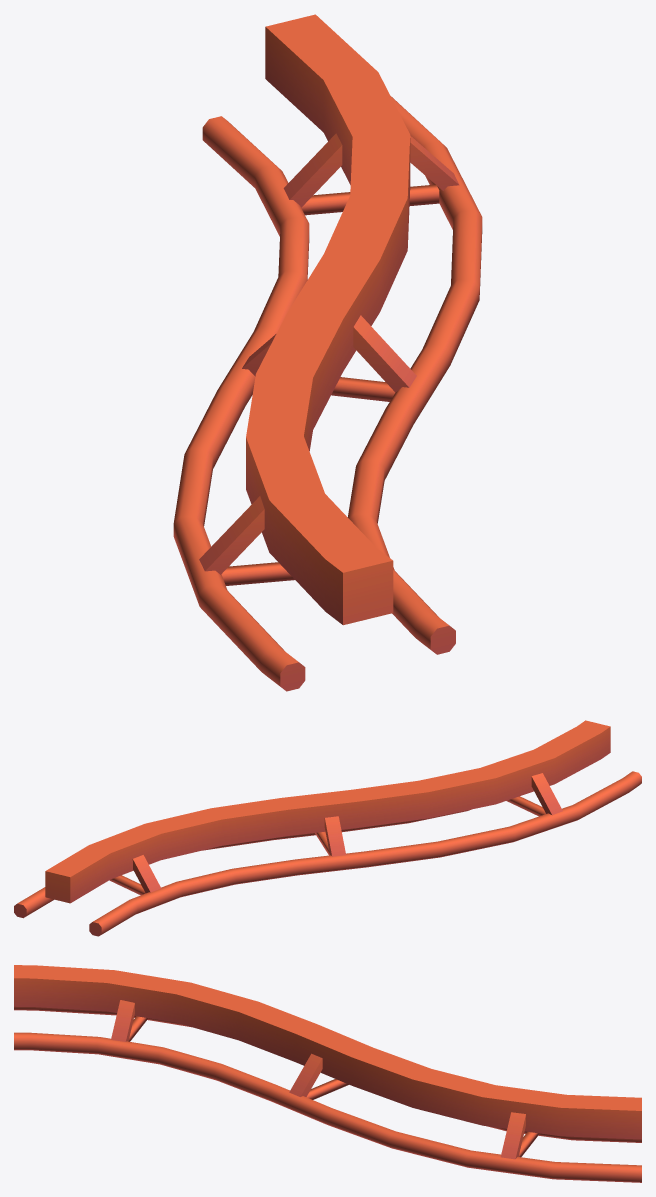
Rendered from coaster-hanging-curve.glb.
3 views of the same model, one above another, from view 1: azimuth 30°, elevation 25°; view 2: azimuth 150°, elevation 25°; view 3: azimuth 270°, elevation 25° (orthographic). The views are drawn at different scales.
Parts seen in each view (by area): view 1: coaster-hanging-curve; view 2: coaster-hanging-curve; view 3: coaster-hanging-curve.
Boxes of the visible parts, x1,y1,x2,y2 form: coaster-hanging-curve: (173,14,482,691); coaster-hanging-curve: (14,720,641,936); coaster-hanging-curve: (14,965,641,1182).
Size of the model in its own units: 2.7 by 0.3999 by 4.
1 material, 1 textured.
